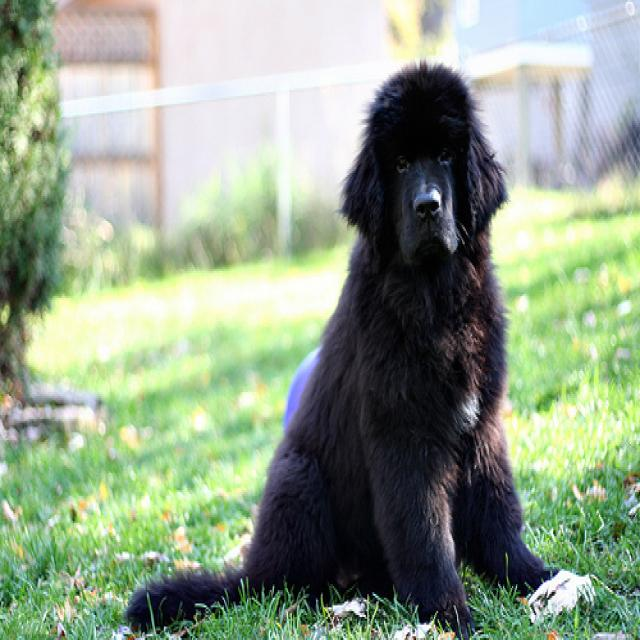dog-newfoundland: (115, 40, 559, 636)
